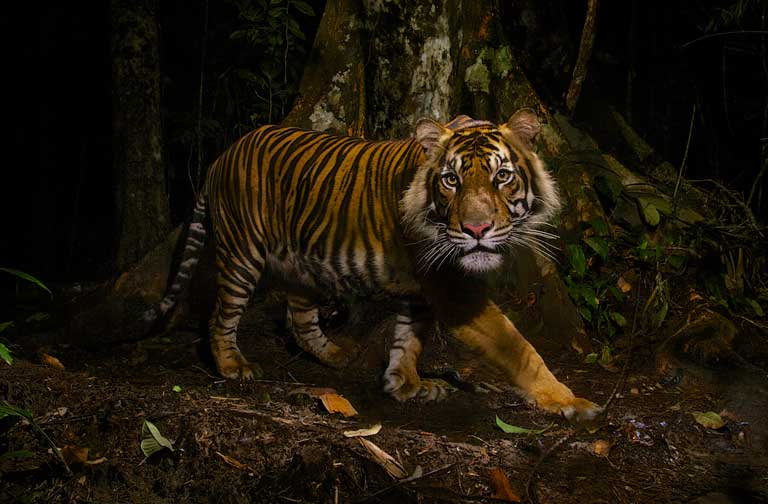Tigrew: (146, 99, 623, 423)
